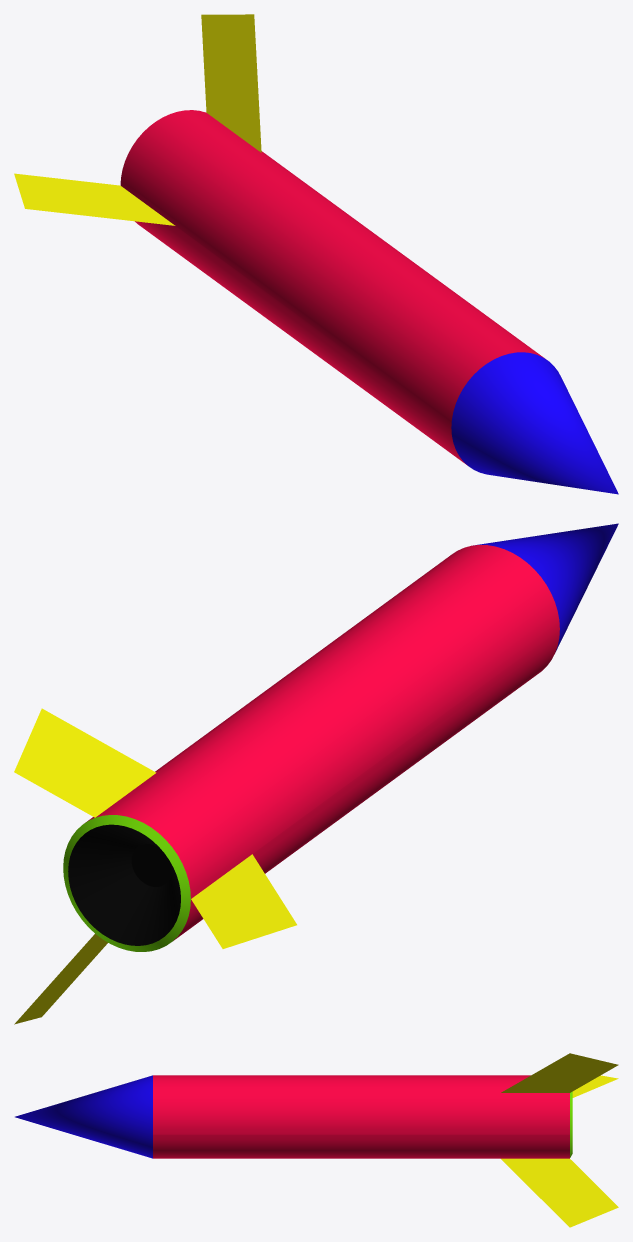
File: fixedmissile.fbx
The picture shows the model from 3 angles, top to bottom: view 1: azimuth 30°, elevation 25°; view 2: azimuth 150°, elevation 25°; view 3: azimuth 270°, elevation 25°; orthographic projection. The views are drawn at different scales.
Parts seen in each view (by area): view 1: Model; view 2: Model; view 3: Model.
Boxes of the visible parts, bbox=[...] form: Model: bbox=[14, 14, 618, 494]; Model: bbox=[14, 523, 618, 1024]; Model: bbox=[15, 1053, 618, 1227].
Size of the model in its own units: 0.6 by 0.6928 by 2.18.
